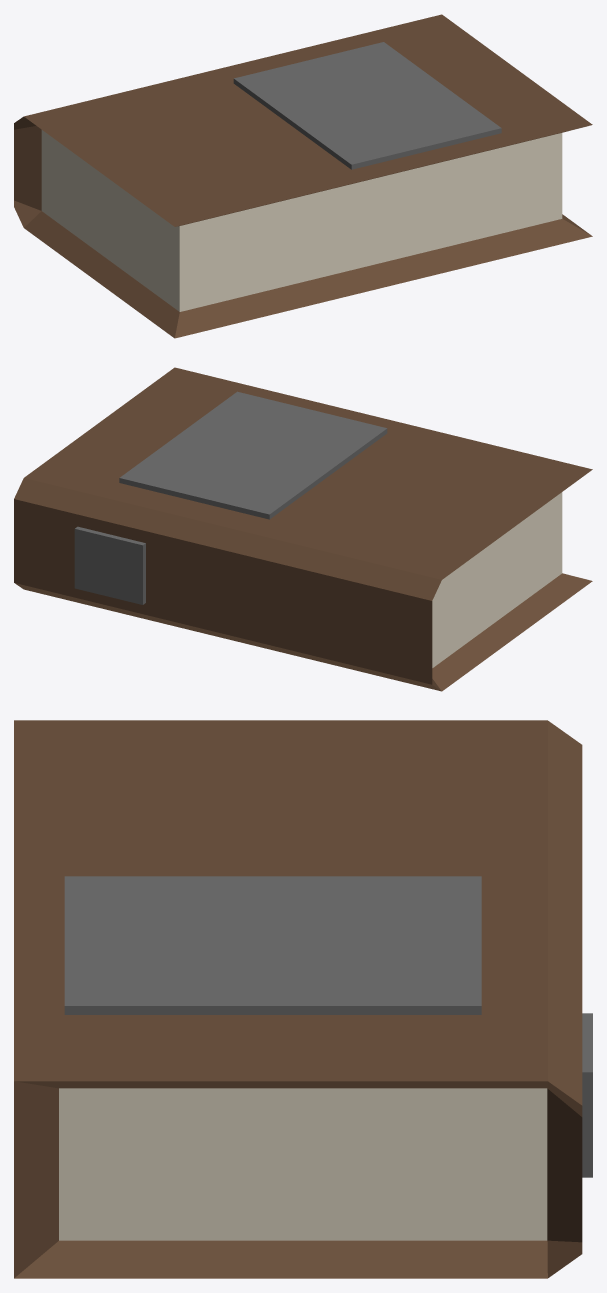
Rendered from Spellbook_1.fbx.
The picture shows the model from 3 angles, top to bottom: view 1: azimuth 30°, elevation 25°; view 2: azimuth 150°, elevation 25°; view 3: azimuth 270°, elevation 25°; orthographic projection. The views are drawn at different scales.
Parts seen in each view (by area): view 1: Book_v1.001; view 2: Book_v1.001; view 3: Book_v1.001.
Boxes of the visible parts, x1=… form: Book_v1.001: x1=14, y1=14, x2=592, y2=338; Book_v1.001: x1=14, y1=367, x2=592, y2=691; Book_v1.001: x1=14, y1=720, x2=592, y2=1278.
Bounding box in the file's own units: 91.9 × 24.49 × 62.32.
